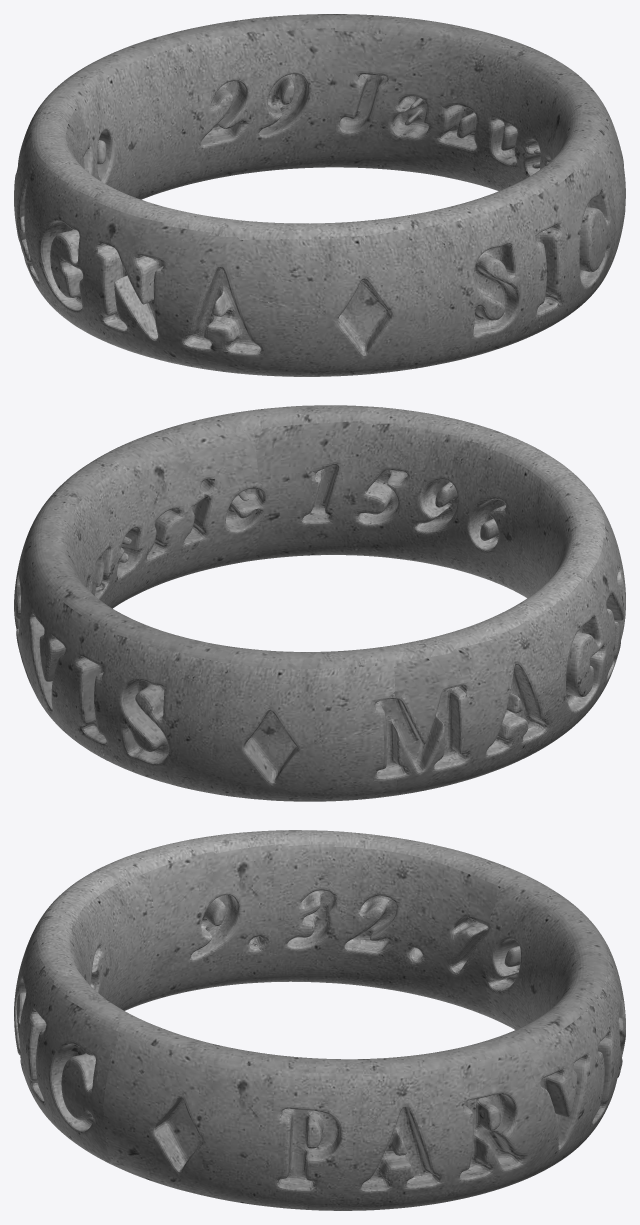
Rendered from uncharted-ring-draco-transformed.glb.
3 views of the same model, one above another, from view 1: azimuth 30°, elevation 25°; view 2: azimuth 150°, elevation 25°; view 3: azimuth 270°, elevation 25° (orthographic).
Parts seen in each view (by area): view 1: Mesh_0; view 2: Mesh_0; view 3: Mesh_0.
Boxes of the visible parts, x1,y1,x2,y2 form: Mesh_0: (14, 14, 625, 376); Mesh_0: (14, 405, 625, 801); Mesh_0: (14, 830, 625, 1210).
Size of the model in its own units: 3.25 by 0.9795 by 3.24.
1 material, 1 textured.
